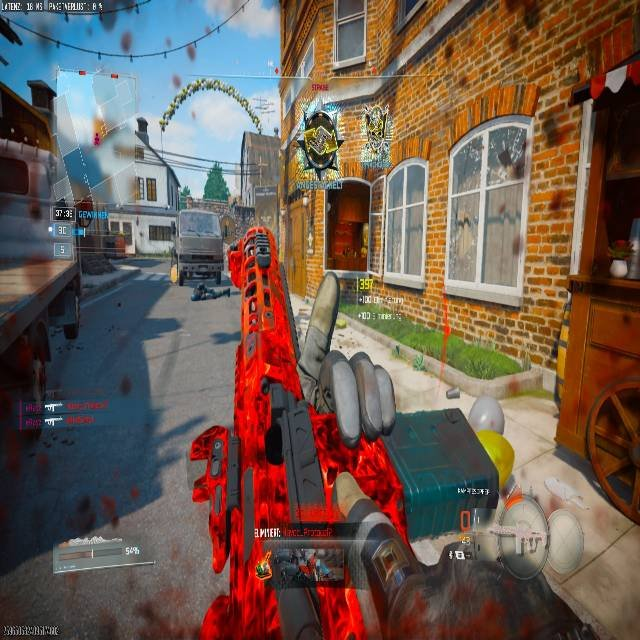head: (309, 111, 332, 129)
player: (297, 108, 342, 186)
